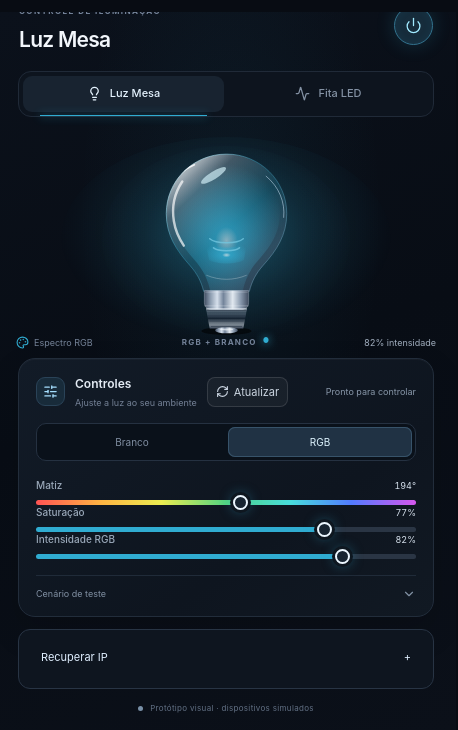
Test: recovery integrated with LightingApp/session/controllers › runs browser/native MOCK entirely in memory (native=false)
The width and height of the screenshot is (458, 730).
(page scrolled)
Click the button "Recuperar IP +" at [74, 657], box top-left (31, 642), bottom-right (421, 676)
(page scrolled)
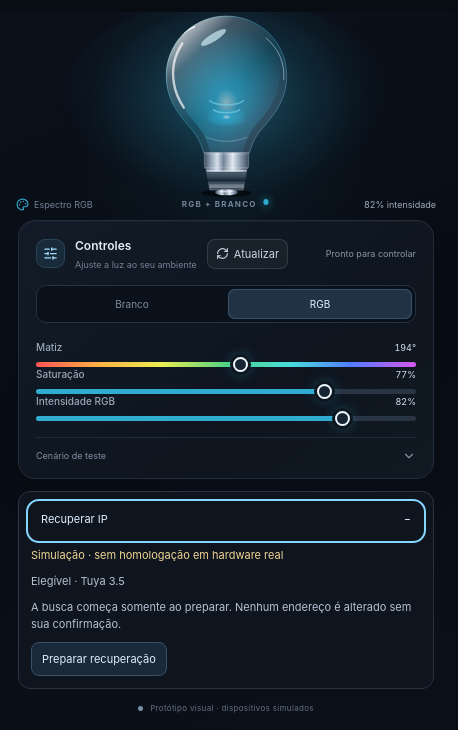
Click the button "Preparar recuperação" at [99, 659], box top-left (31, 642), bottom-right (167, 676)
(page scrolled)
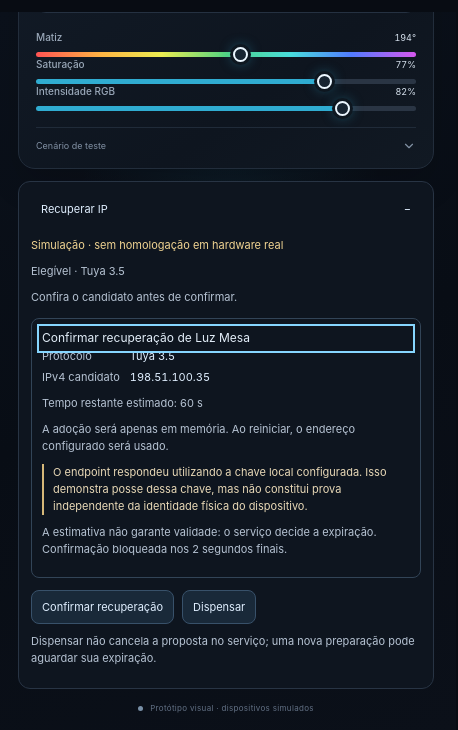
Click the button "Confirmar recuperação" at [102, 607], box top-left (31, 590), bottom-right (174, 624)
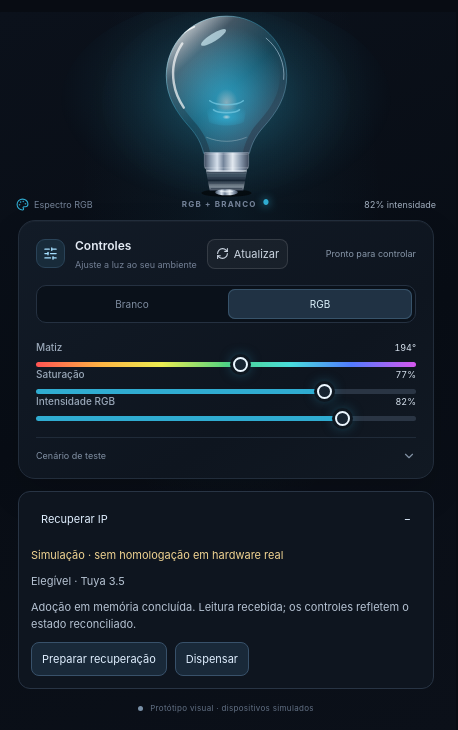
Now the text "Adoção em memória concluída" is shown, box top-left (31, 600), bottom-right (409, 631)
